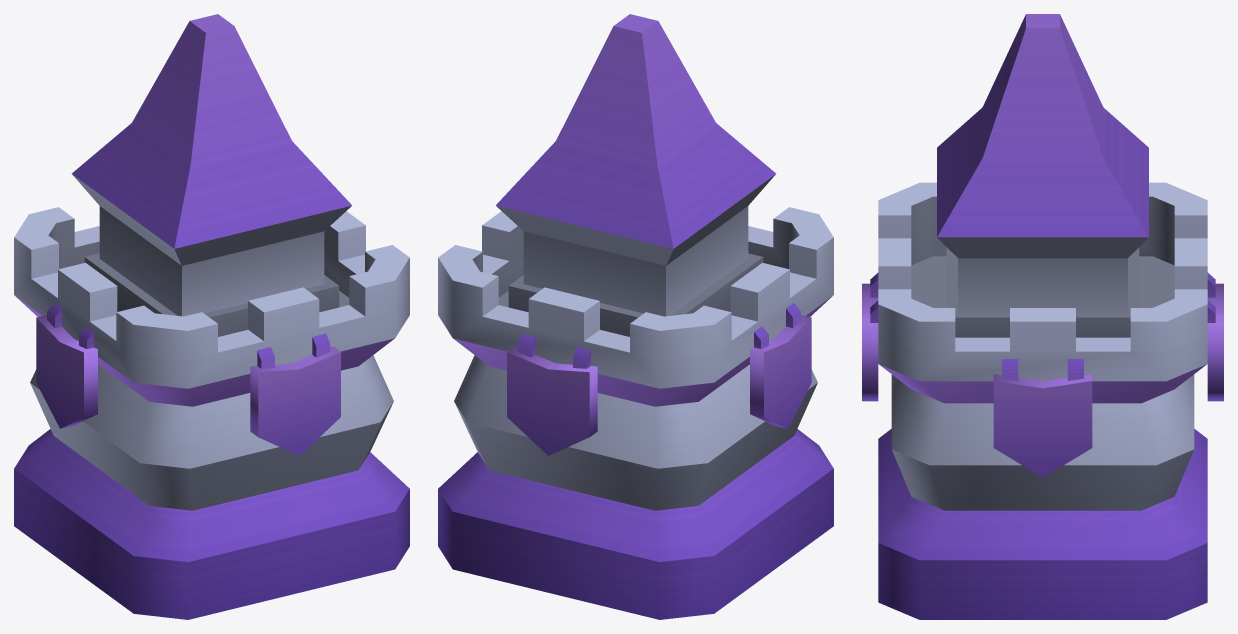
Rendered from tower-square-build-d.fbx.
3 renders of one model, left to right at view 1: azimuth 30°, elevation 25°; view 2: azimuth 150°, elevation 25°; view 3: azimuth 270°, elevation 25°, orthographic. The views are drawn at different scales.
Parts seen in each view (by area): view 1: tower-square-build-d; view 2: tower-square-build-d; view 3: tower-square-build-d.
Boxes of the visible parts, x1,y1,x2,y2 form: tower-square-build-d: (14, 14, 409, 619); tower-square-build-d: (438, 14, 833, 619); tower-square-build-d: (862, 14, 1223, 619).
Size of the model in its own units: 110 by 178 by 110.
